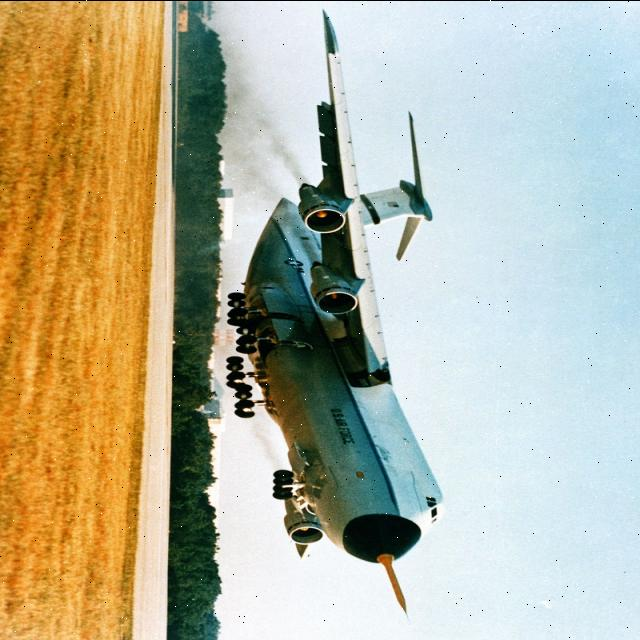C5: (129, 1, 515, 638)
